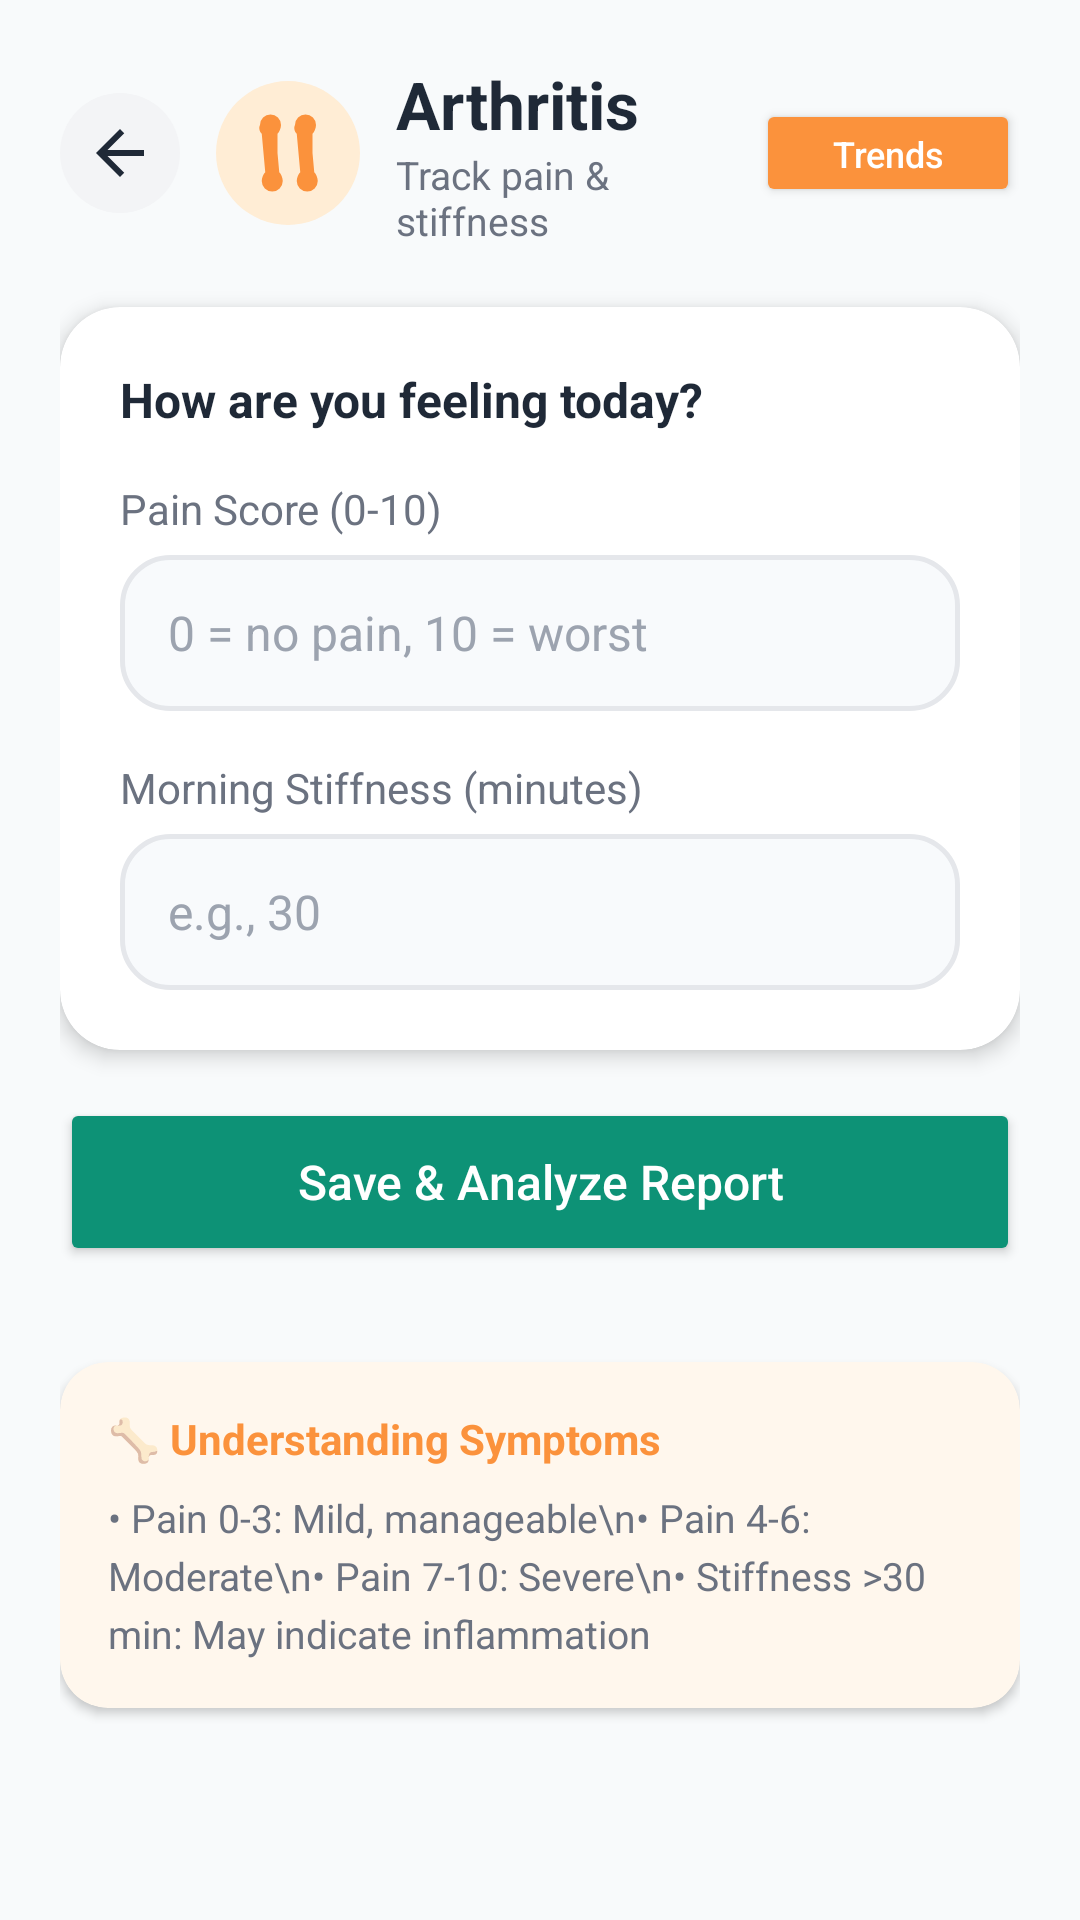

Screen size 1080x1920. Icon name, then its box in pixels as (x1,y1,x2,y2):
Back: (96,129,144,177)
health joint: (259,114,318,192)
